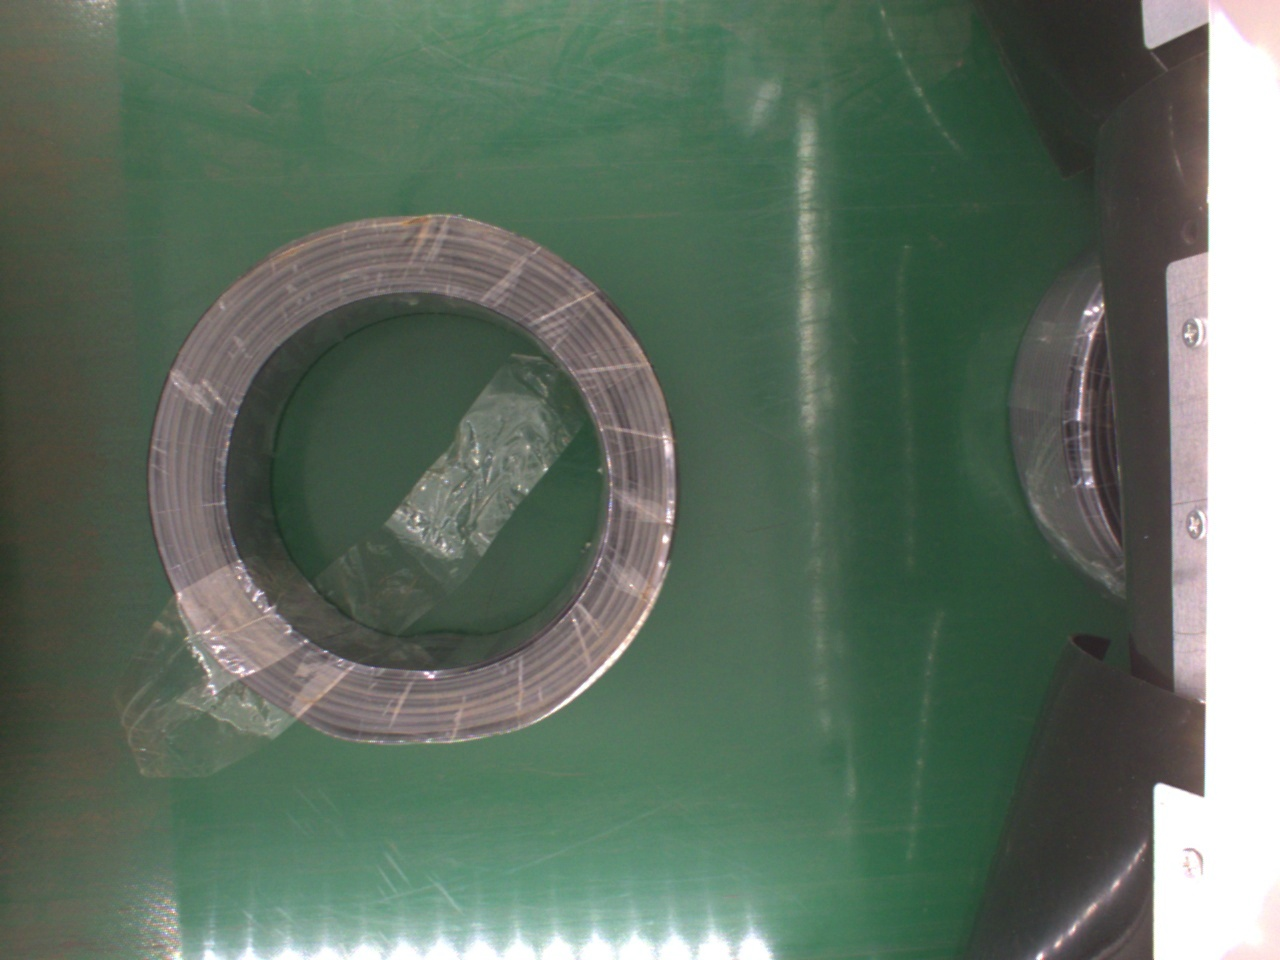black: (146, 219, 676, 747), (1013, 248, 1121, 611)
